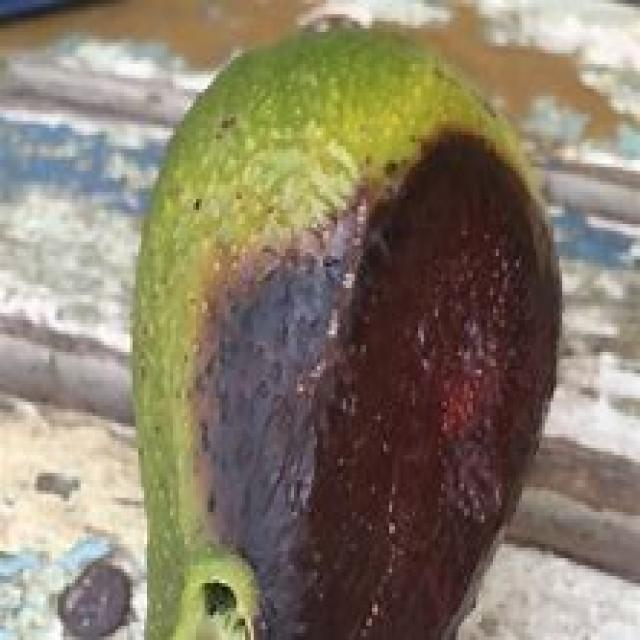Avocado: (121, 28, 574, 640)
